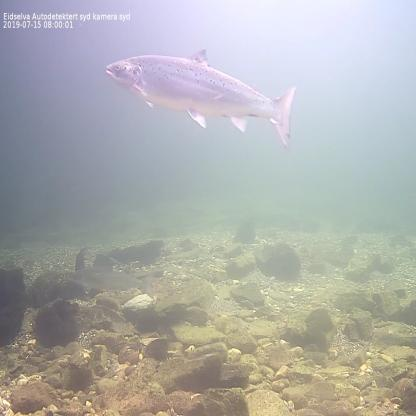salmon: (104, 45, 298, 149), (67, 262, 156, 299)
